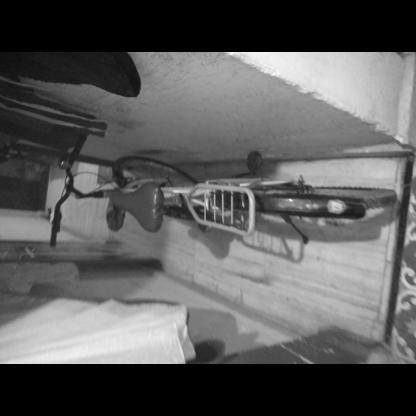Bicycle: (4, 92, 411, 283)
